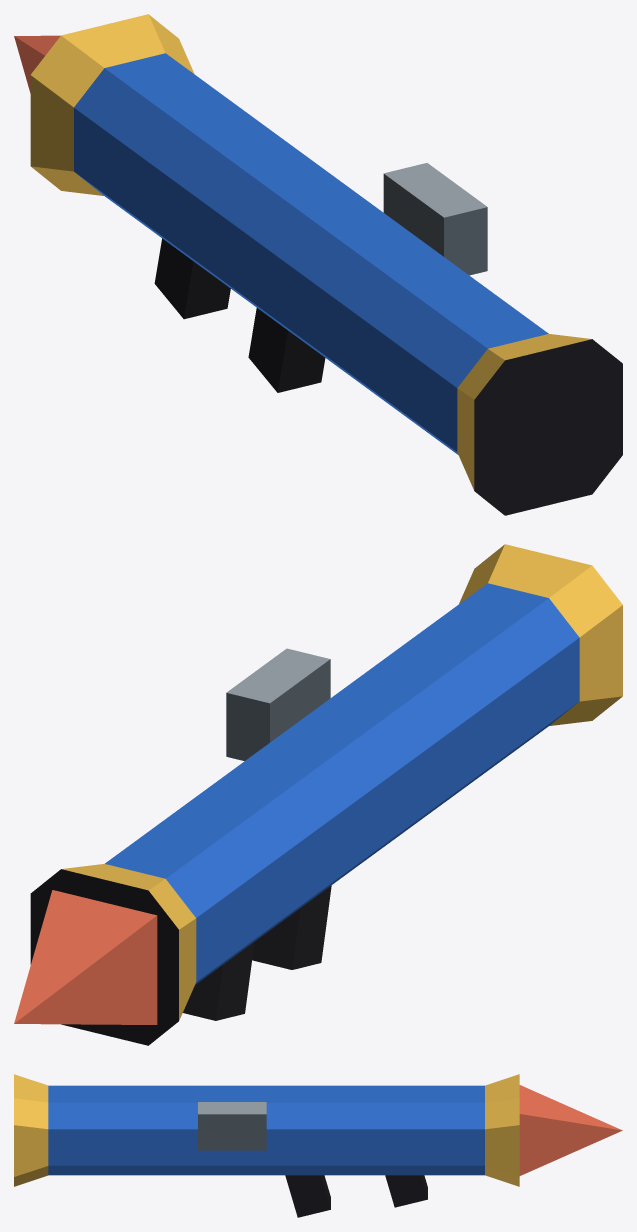
The model's file is wpn_rocket.glb.
3 renders of one model, top to bottom at view 1: azimuth 30°, elevation 25°; view 2: azimuth 150°, elevation 25°; view 3: azimuth 270°, elevation 25°, orthographic. The views are drawn at different scales.
Parts seen in each view (by area): view 1: wpn_rocket; view 2: wpn_rocket; view 3: wpn_rocket.
Boxes of the visible parts, left/top/right/bottom form: wpn_rocket: left=14, top=14, right=622, bottom=515; wpn_rocket: left=14, top=544, right=622, bottom=1045; wpn_rocket: left=14, top=1074, right=622, bottom=1217.
Size of the model in its own units: 0.2675 by 0.3224 by 1.42.
Materials: 1 (1 with a texture image).
